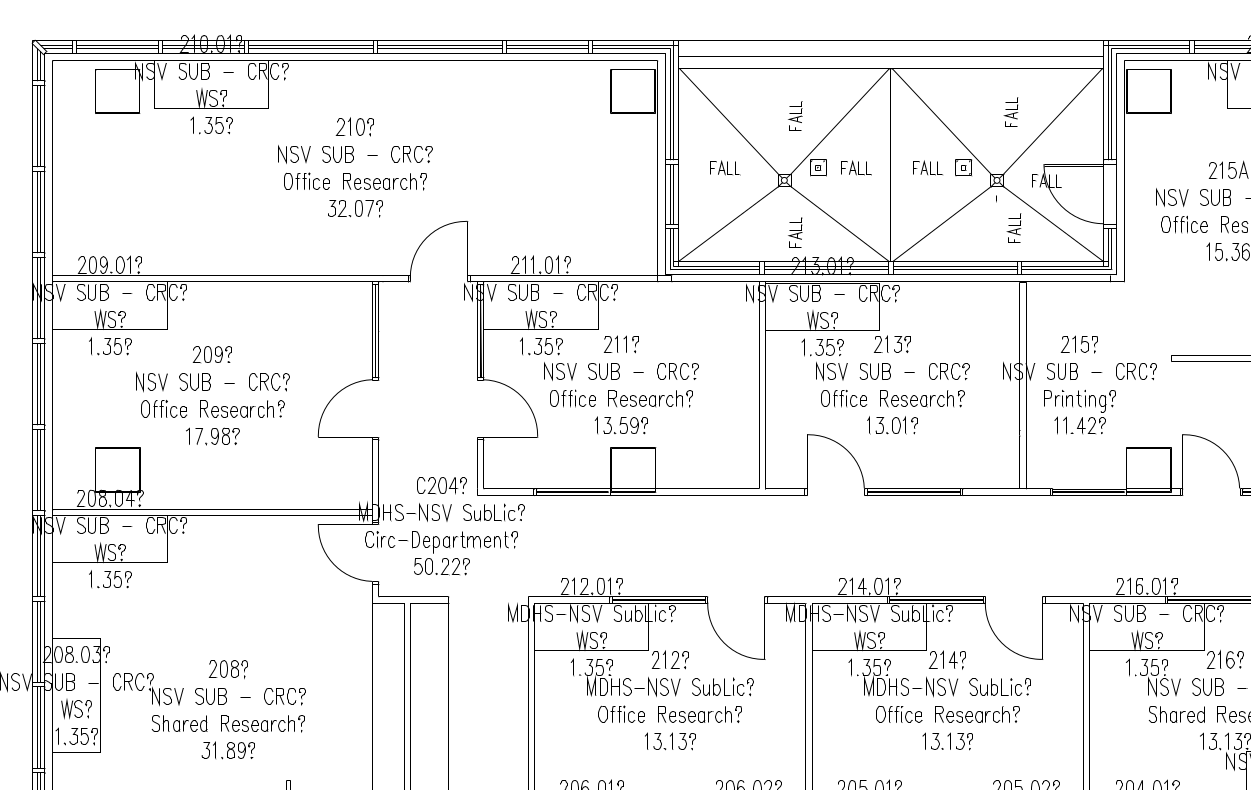door: (795, 430, 869, 499), (699, 598, 773, 667), (975, 600, 1049, 669), (1177, 428, 1251, 497), (1040, 161, 1107, 232), (407, 217, 474, 281), (313, 378, 380, 442), (479, 377, 546, 441), (310, 522, 377, 586)
